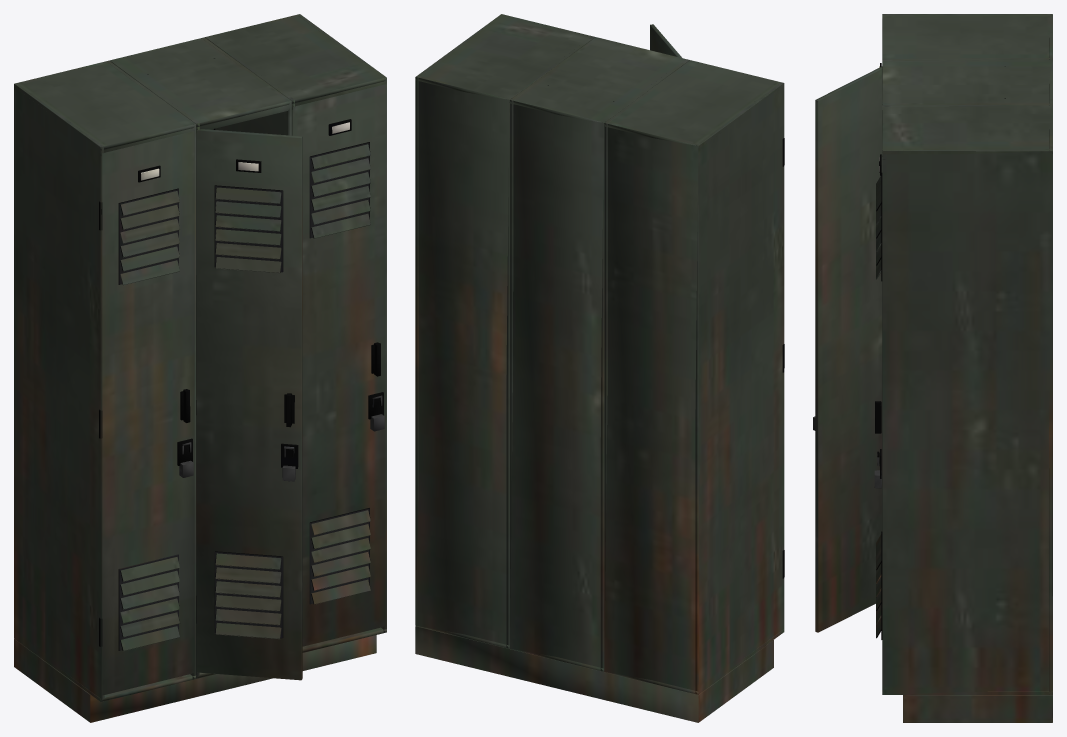
File: locker.glb
The picture shows the model from 3 angles, left to right: view 1: azimuth 30°, elevation 25°; view 2: azimuth 150°, elevation 25°; view 3: azimuth 270°, elevation 25°; orthographic projection.
Visible parts, largest first — view 1: locker; view 2: locker; view 3: locker.
Boxes of the visible parts, x1,y1,x2,y2 form: locker: (14, 14, 386, 722); locker: (415, 14, 784, 722); locker: (813, 14, 1052, 722).
Size of the model in its own units: 0.9522 by 1.85 by 0.7031.
1 material, 1 textured.
